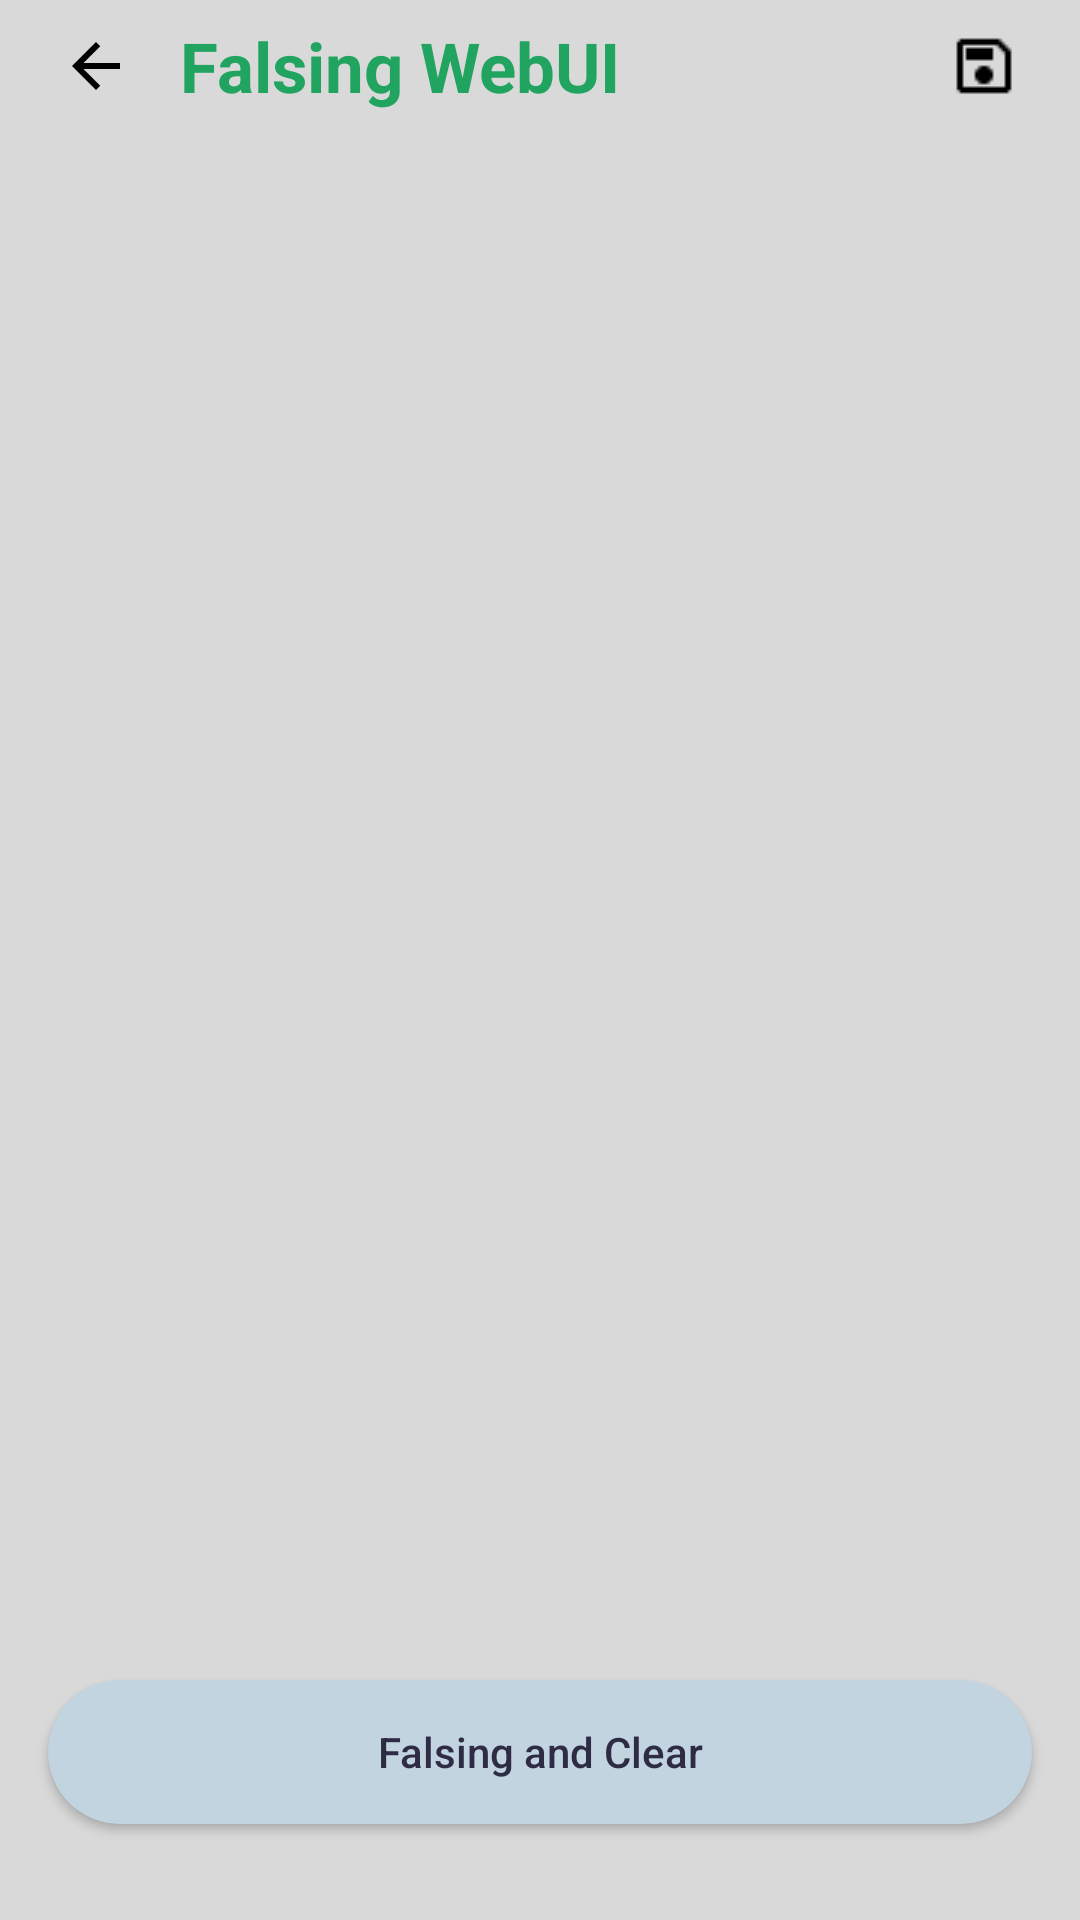

Screen size 1080x1920. Icon name, then its box in pixels as (x1, y1, x2, y2):
Kembali: (72, 42, 120, 90)
